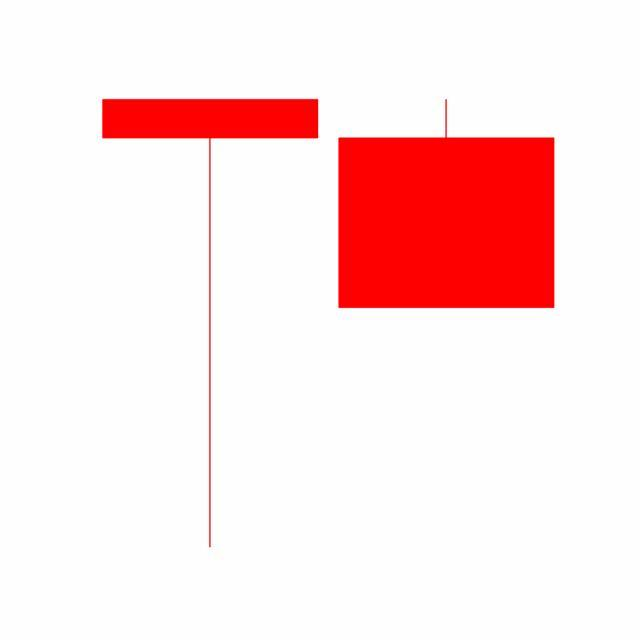Marubozu: (328, 97, 566, 310)
